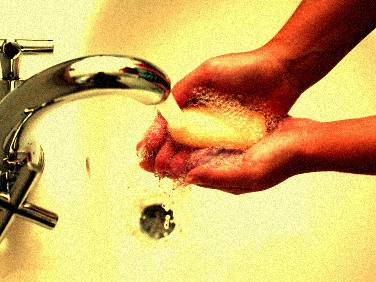washing hand: (52, 15, 319, 251)
